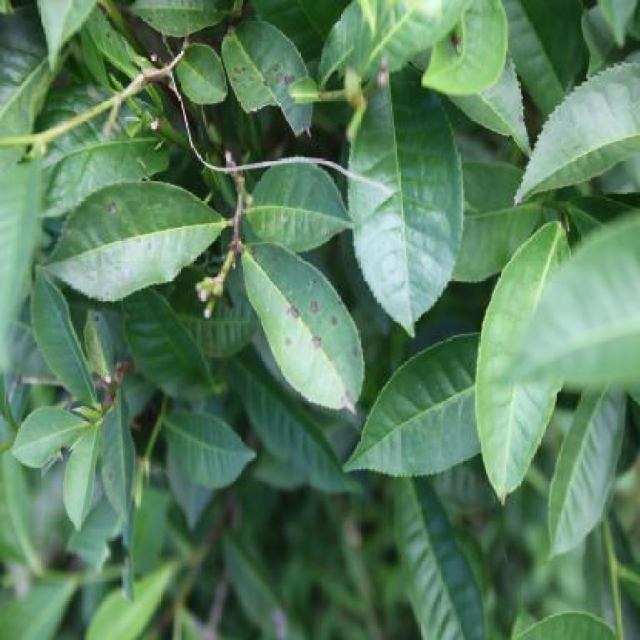Tea Mosquito bug infested leaf: (217, 229, 403, 440)
